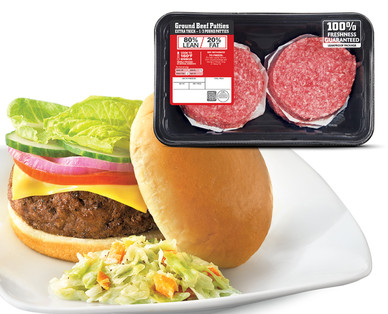ground_beef: (166, 22, 351, 127), (9, 129, 161, 243)
